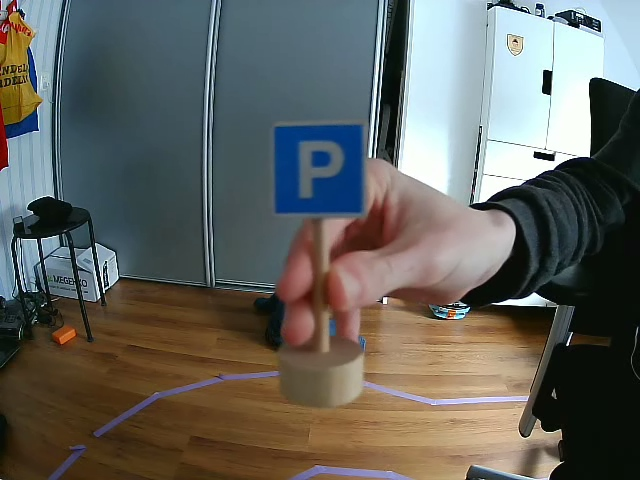parkeerbord: (268, 120, 370, 218)
